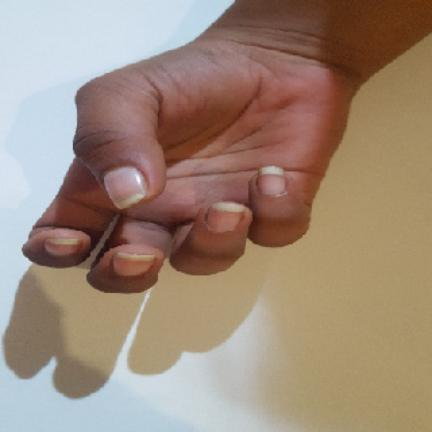Nail: (103, 167, 147, 210), (206, 202, 245, 232), (113, 253, 154, 276), (257, 166, 285, 196), (43, 239, 82, 256)
